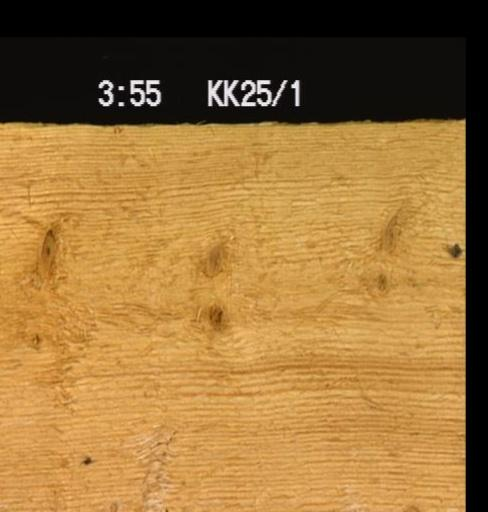small_knot: (371, 265, 396, 300)
sound_knot: (187, 220, 240, 282), (203, 297, 227, 335)
